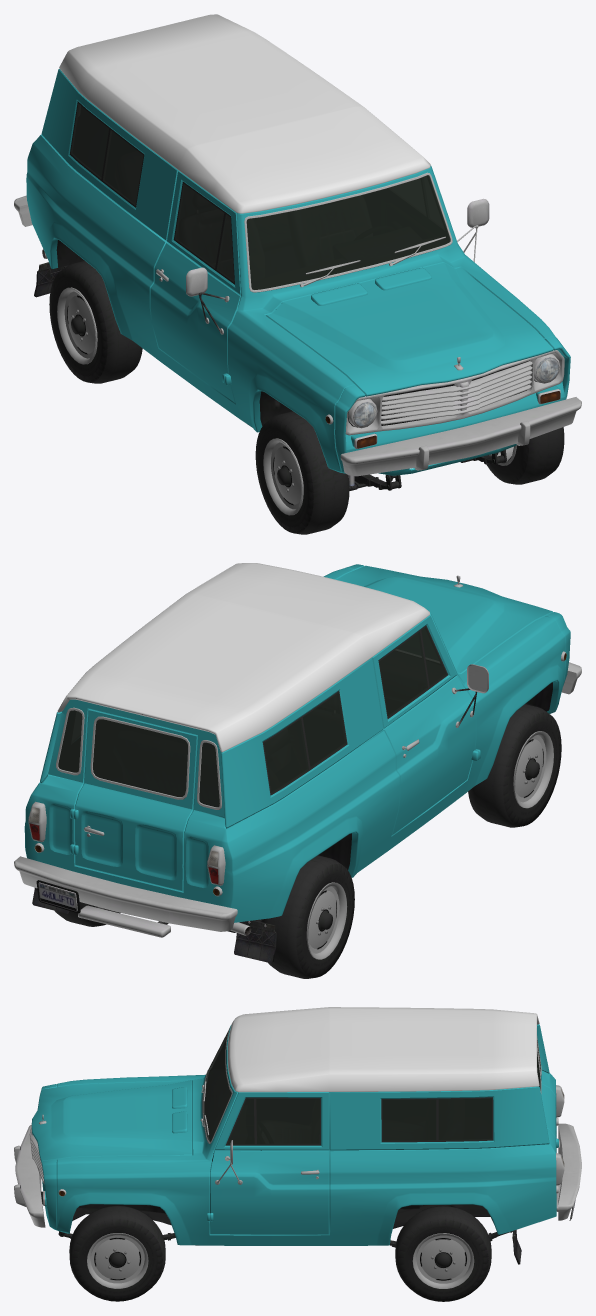
The model's file is Jeep.glb.
3 renders of one model, top to bottom at view 1: azimuth 30°, elevation 25°; view 2: azimuth 150°, elevation 25°; view 3: azimuth 270°, elevation 25°, orthographic. The views are drawn at different scales.
Visible parts, largest first — view 1: Roof, Body, Hood, Windshield, Door_Right, Wheel_FR, Grill, Wheel_RR, Bumper_Front, Plate_Front, Bodyglass, Door_Glass_FR (+8 smaller); view 2: Body, Roof, rear_door, Door_Right, Hood, Wheel_RR, Wheel_FR, Bodyglass, Bumper_rear, rear_door_glass, Door_Glass_FR, Bottom (+7 smaller); view 3: Body, Roof, Door_Left, Hood, Wheel_RL, Wheel_FL, Bodyglass, Door_Glass_FL, Bumper_Front, Bumper_rear, Windshield, Bottom (+5 smaller).
Part boxes in pixels (x1=…): Roof: x1=59, y1=14, x2=430, y2=213; Body: x1=26, y1=69, x2=563, y2=473; Hood: x1=265, y1=263, x2=553, y2=396; Windshield: x1=246, y1=175, x2=450, y2=289; Door_Right: x1=150, y1=170, x2=240, y2=402; Wheel_FR: x1=255, y1=411, x2=349, y2=534; Grill: x1=345, y1=350, x2=564, y2=448; Wheel_RR: x1=49, y1=261, x2=142, y2=383; Bumper_Front: x1=340, y1=397, x2=581, y2=476; Plate_Front: x1=335, y1=337, x2=570, y2=475; Bodyglass: x1=70, y1=103, x2=143, y2=205; Door_Glass_FR: x1=175, y1=183, x2=234, y2=282; Body: x1=24, y1=568, x2=565, y2=922; Roof: x1=57, y1=563, x2=429, y2=752; rear_door: x1=73, y1=709, x2=197, y2=891; Door_Right: x1=372, y1=615, x2=478, y2=834; Hood: x1=336, y1=565, x2=552, y2=673; Wheel_RR: x1=261, y1=855, x2=354, y2=978; Wheel_FR: x1=468, y1=704, x2=561, y2=827; Bodyglass: x1=58, y1=693, x2=346, y2=807; Bumper_rear: x1=14, y1=856, x2=237, y2=931; rear_door_glass: x1=93, y1=719, x2=187, y2=796; Door_Glass_FR: x1=379, y1=627, x2=446, y2=717; Bottom: x1=78, y1=682, x2=552, y2=937; Body: x1=56, y1=1024, x2=558, y2=1245; Roof: x1=227, y1=1007, x2=539, y2=1092; Door_Left: x1=210, y1=1092, x2=329, y2=1234; Hood: x1=31, y1=1080, x2=192, y2=1161; Wheel_RL: x1=395, y1=1206, x2=491, y2=1301; Wheel_FL: x1=69, y1=1205, x2=165, y2=1301; Bodyglass: x1=382, y1=1040, x2=540, y2=1141; Door_Glass_FL: x1=227, y1=1098, x2=319, y2=1144; Bumper_Front: x1=14, y1=1125, x2=45, y2=1227; Bumper_rear: x1=558, y1=1123, x2=581, y2=1220; Windshield: x1=203, y1=1030, x2=231, y2=1142; Bottom: x1=72, y1=1184, x2=560, y2=1245.
Bounding box in the file's own units: 1.43 × 1.26 × 2.97.
Materials: 10 (7 with a texture image).
